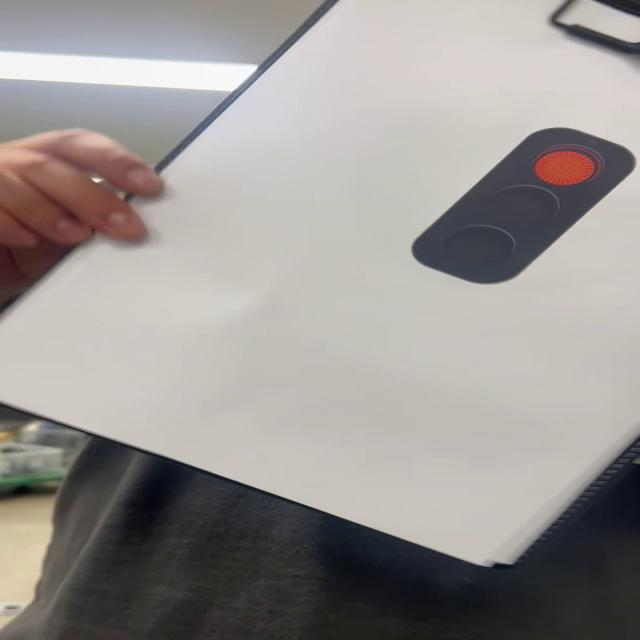red: (410, 126, 637, 286)
